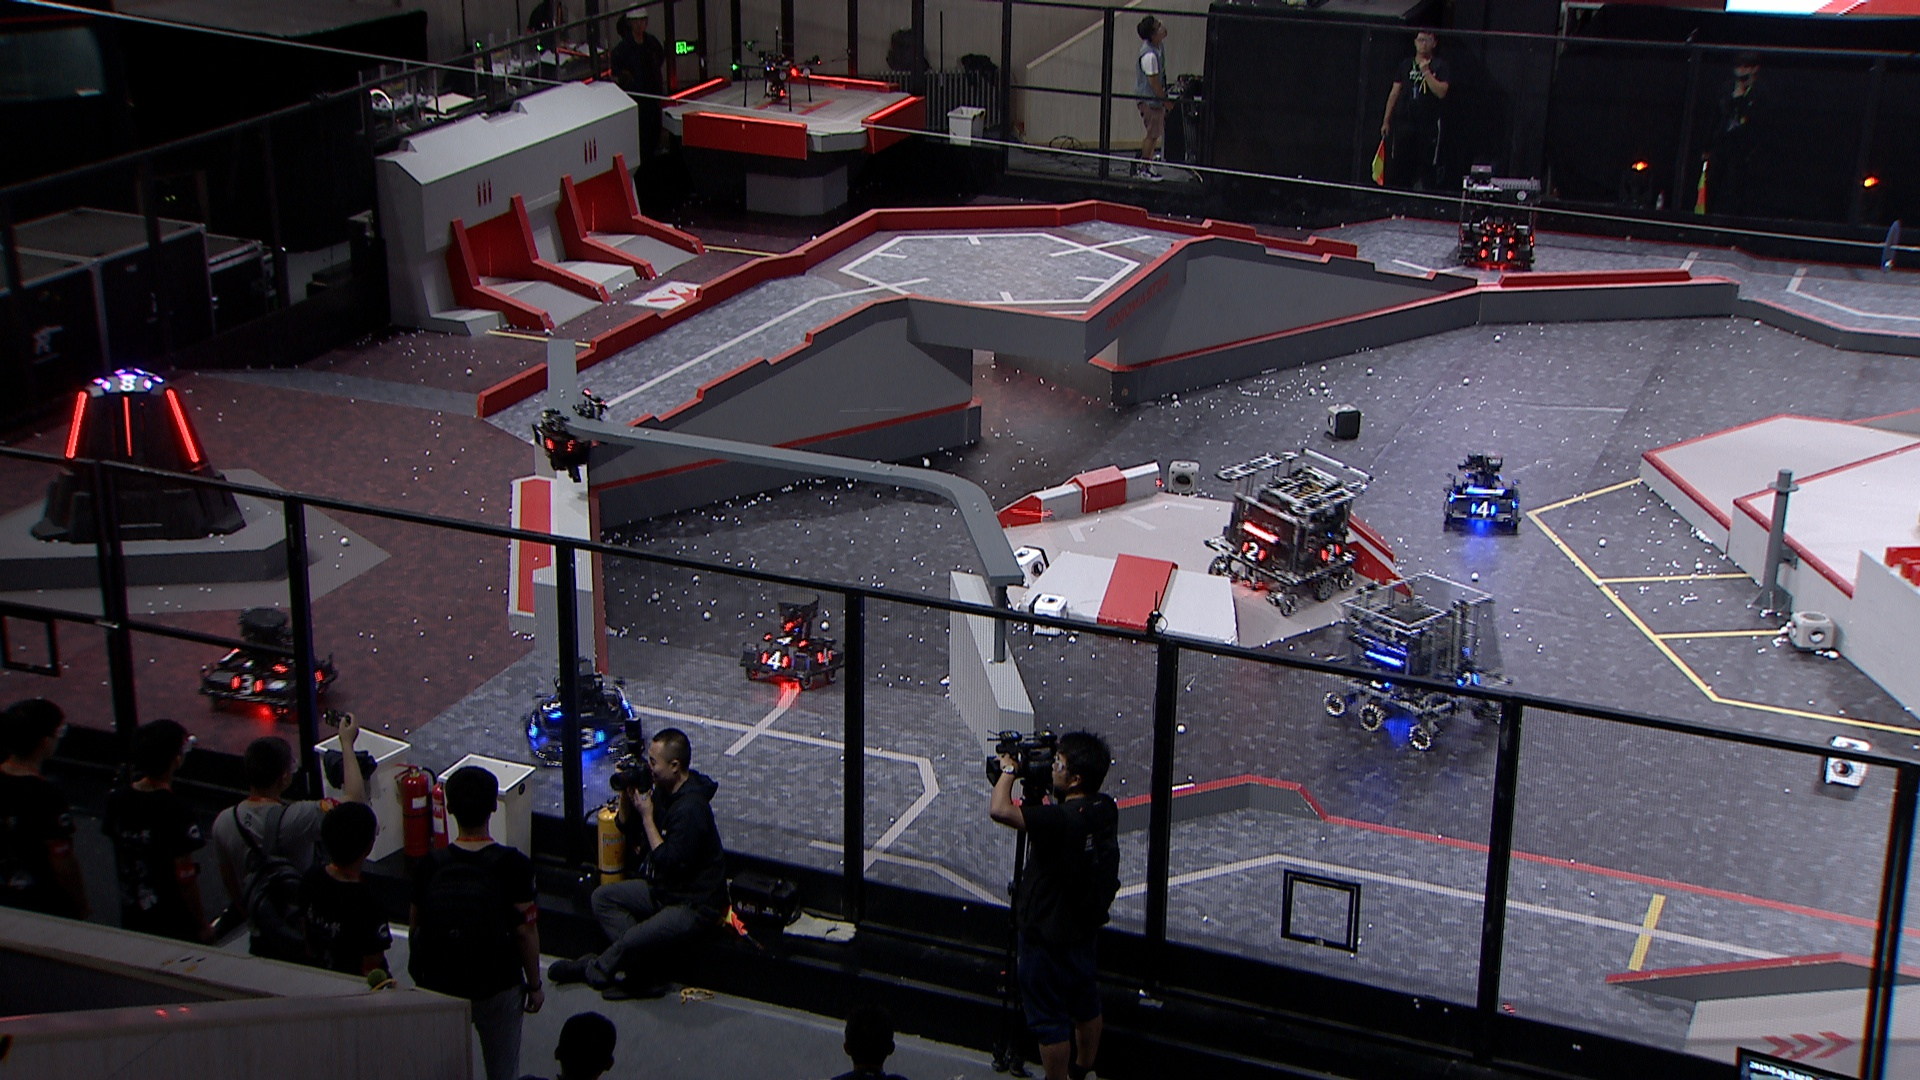armor: (162, 386, 200, 465), (61, 390, 88, 462), (121, 396, 135, 460), (579, 723, 608, 752), (228, 674, 266, 695), (757, 650, 793, 671), (764, 632, 808, 647), (531, 427, 556, 454), (1240, 538, 1267, 562), (1468, 498, 1498, 520), (1477, 247, 1516, 262), (1320, 541, 1342, 564), (539, 694, 560, 717), (1480, 233, 1516, 247), (1457, 670, 1482, 688), (524, 711, 539, 738), (814, 645, 833, 666)
base: (29, 365, 247, 542)
car: (1320, 568, 1513, 750), (1204, 444, 1373, 618), (193, 604, 340, 721), (520, 655, 647, 769), (733, 593, 851, 692), (1457, 166, 1542, 276), (1441, 451, 1523, 538)
ignore: (100, 377, 154, 396)
watcher: (527, 389, 609, 487)
